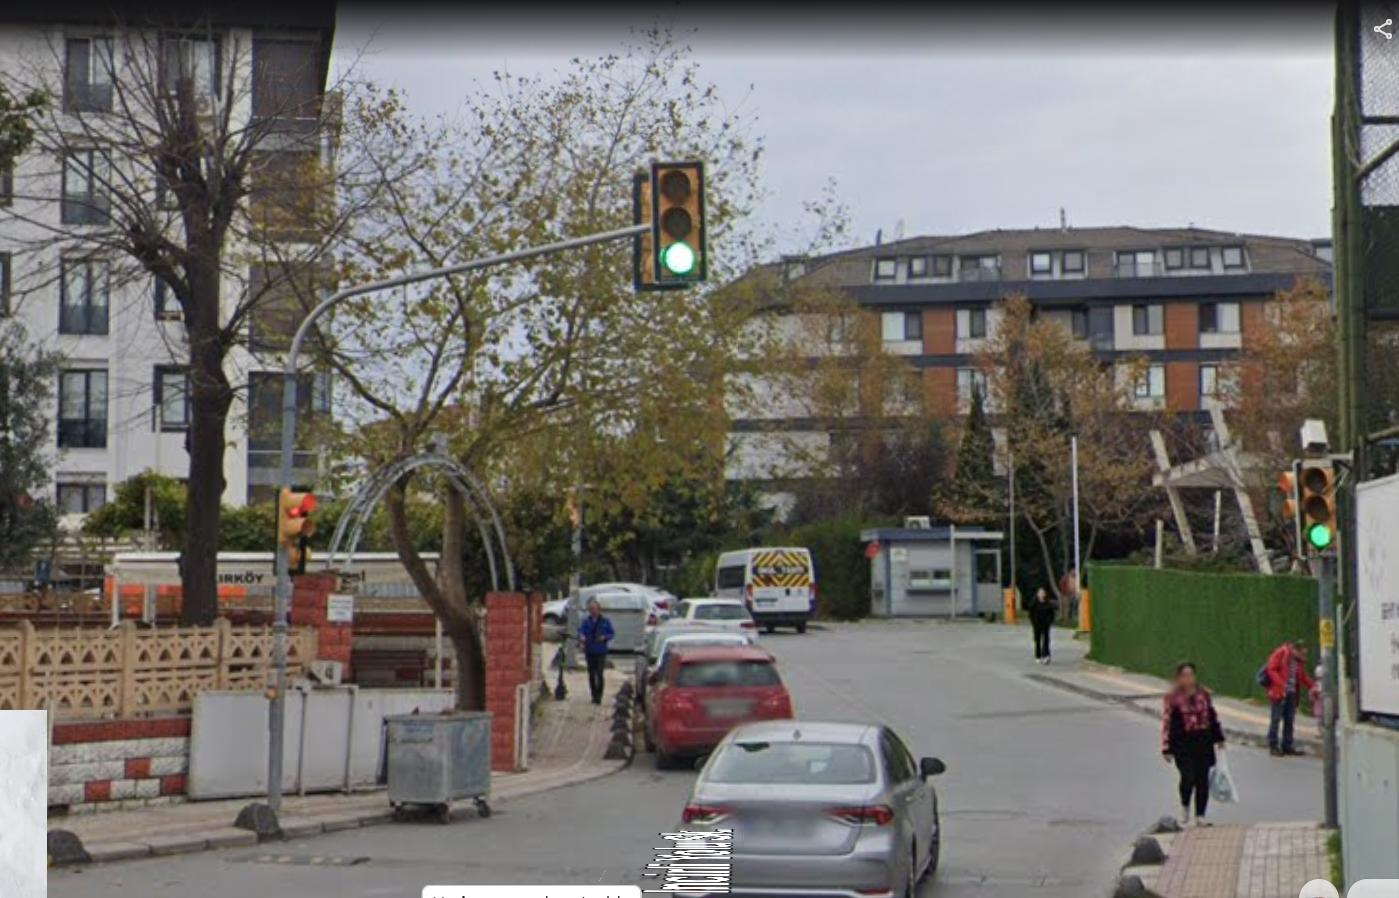greenlight: (646, 159, 714, 283), (1297, 453, 1341, 567)
redlight: (272, 485, 309, 576)
